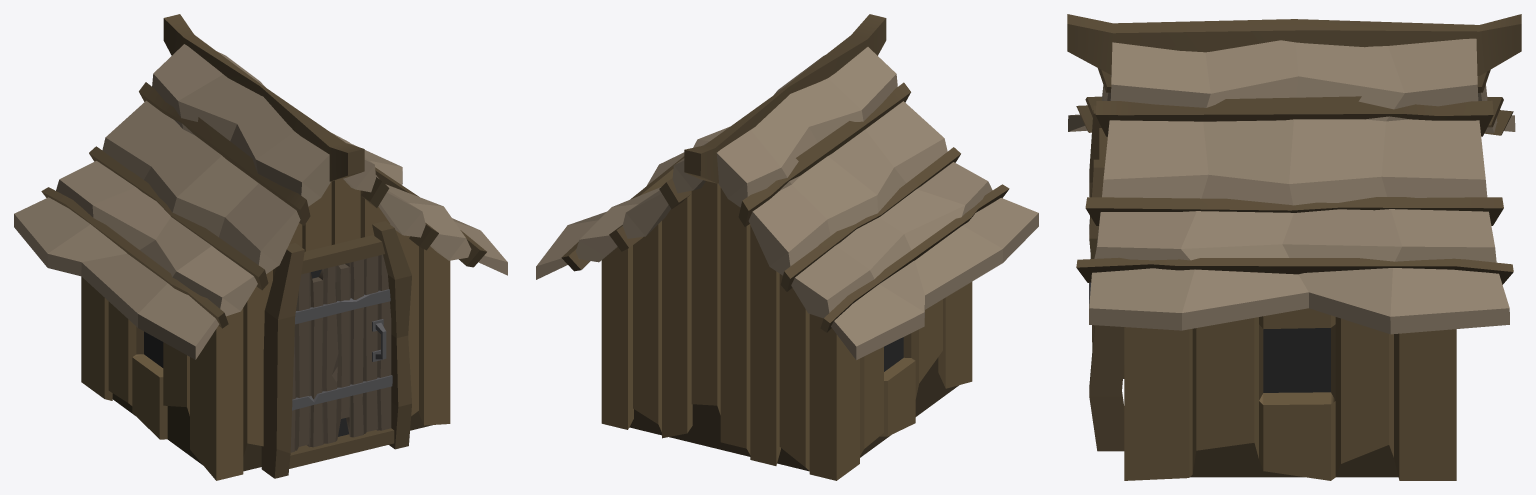
The model's file is SM_Bld_Rickety_House_01.glb.
The picture shows the model from 3 angles, left to right: view 1: azimuth 30°, elevation 25°; view 2: azimuth 150°, elevation 25°; view 3: azimuth 270°, elevation 25°; orthographic projection. The views are drawn at different scales.
Parts seen in each view (by area): view 1: SM_Bld_Rickety_House_01; view 2: SM_Bld_Rickety_House_01; view 3: SM_Bld_Rickety_House_01.
Part boxes in pixels (box(x1,y1,x2,y2)): SM_Bld_Rickety_House_01: box(14, 14, 507, 480); SM_Bld_Rickety_House_01: box(536, 14, 1038, 480); SM_Bld_Rickety_House_01: box(1067, 14, 1521, 480).
Bounding box in the file's own units: 0.0362 × 0.0312 × 0.0326.
